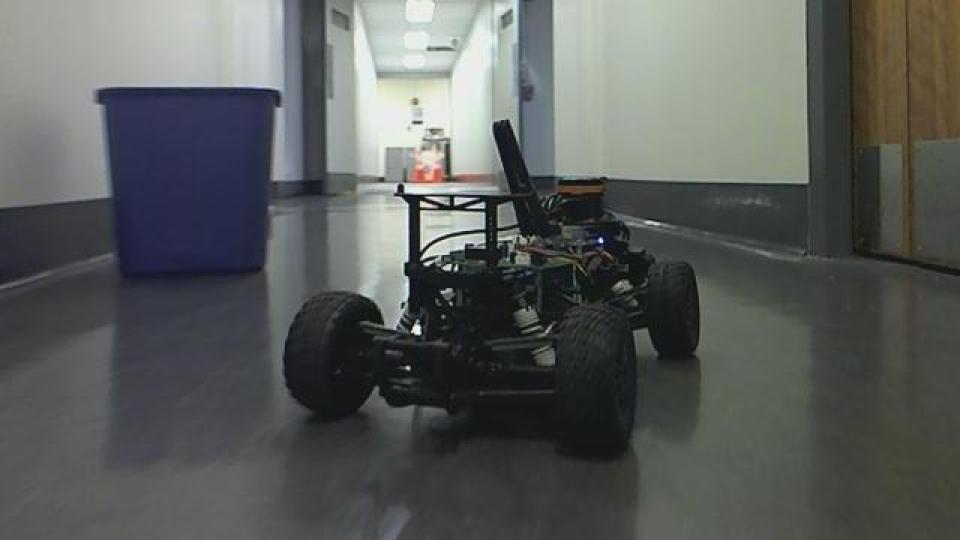car: (279, 117, 703, 459)
